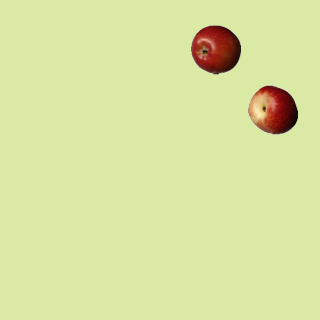Apple Braeburn: (190, 24, 240, 74)
Nectarine: (247, 84, 297, 134)
